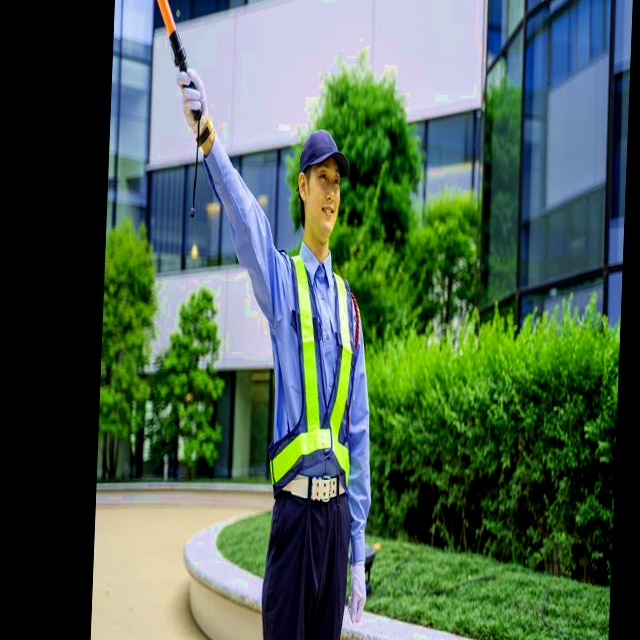Con_Chaleco: (267, 254, 363, 502)
Sin_Casco_Mascarrilla: (294, 128, 349, 248)
